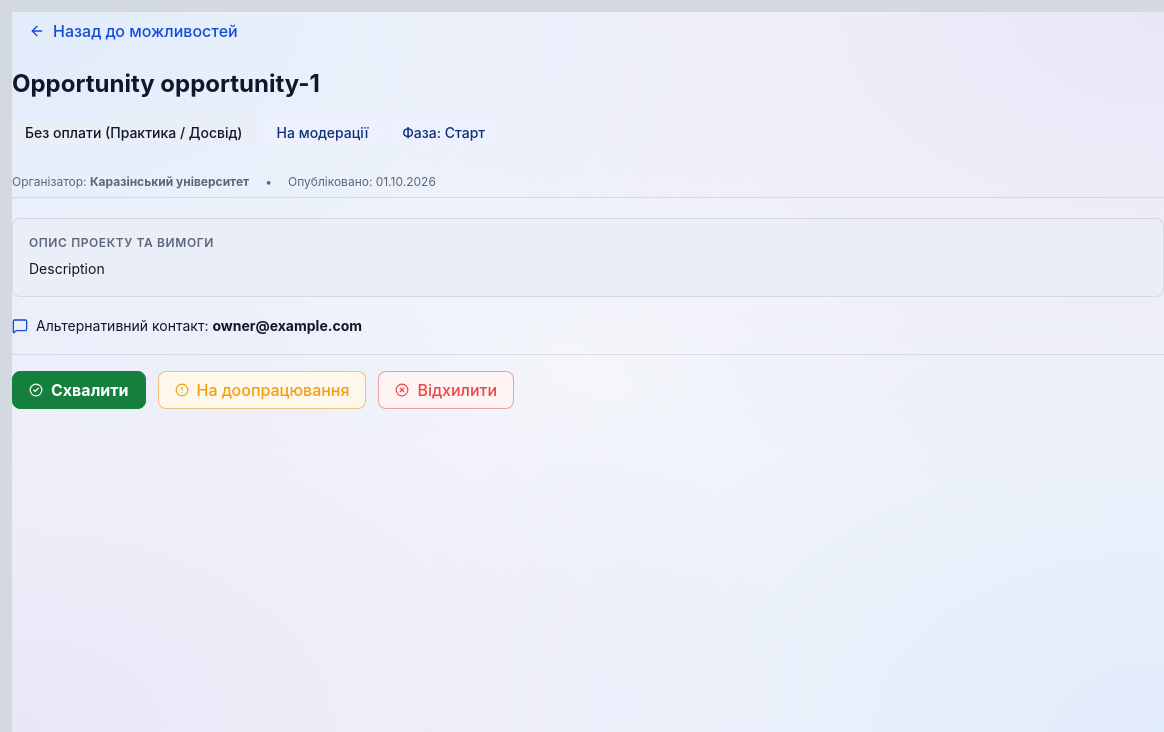
Test: opportunity detail moderation › should retain available actions and show an error after a failed request
What coordinates should you click on to do the following:
click the button "Схвалити"
I would click on:
 (79, 390)
Its box is [12,371,146,409].
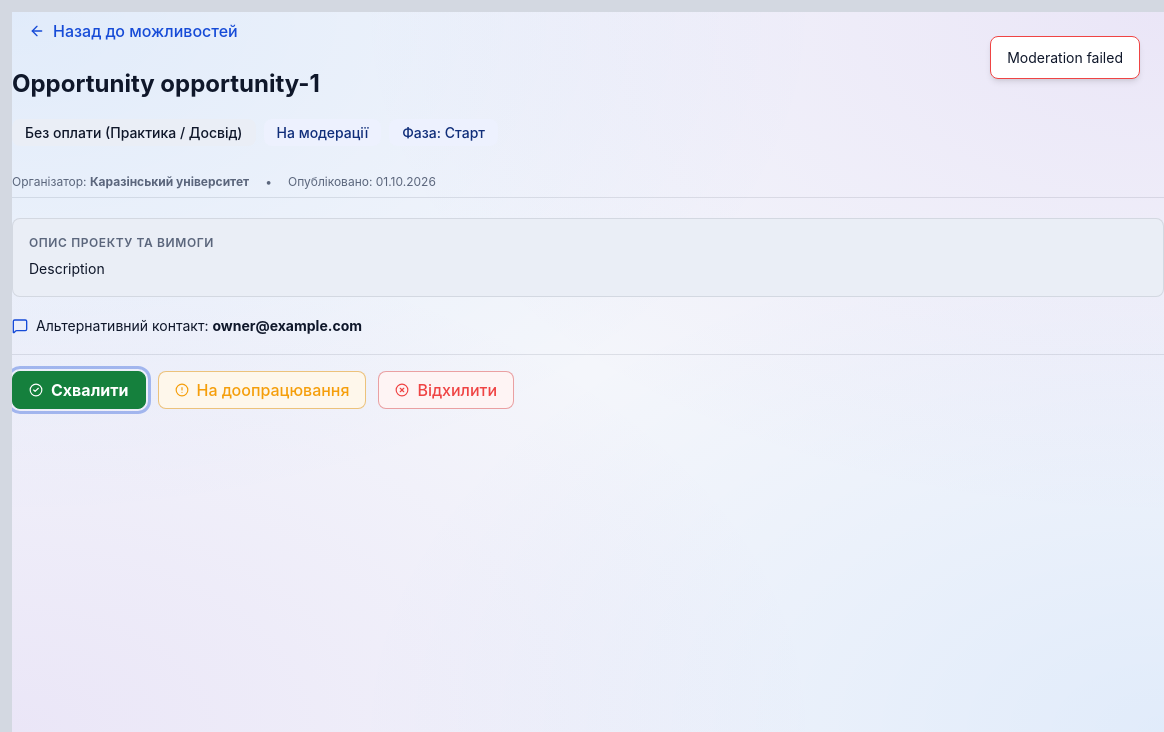
Now the text "Moderation failed" is shown, box [990,36,1140,79]
